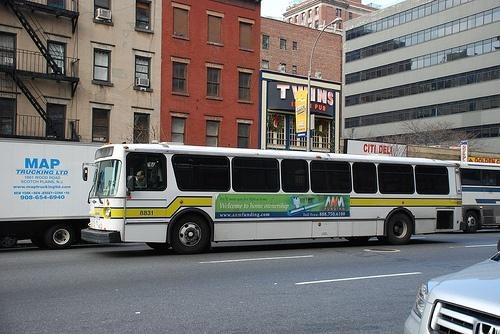bus: (82, 144, 464, 254), (460, 164, 500, 233)
car: (404, 237, 500, 334)
